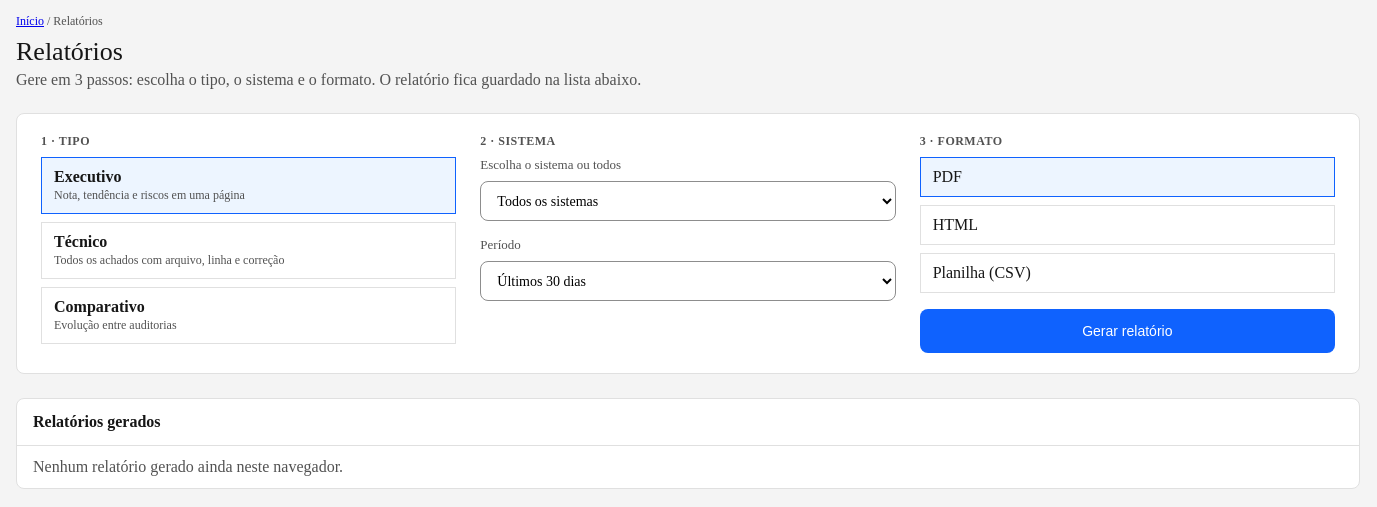
Scenario: ReportsPage › gera o consolidado de todos os sistemas e registra na lista com destaque "agora"
Check: the text "Nenhum relatório gerado ainda neste navegador." is shown, box [33, 458, 343, 475]
Click the button "Gerar relatório". click: (1127, 331)
box: [920, 309, 1335, 353]
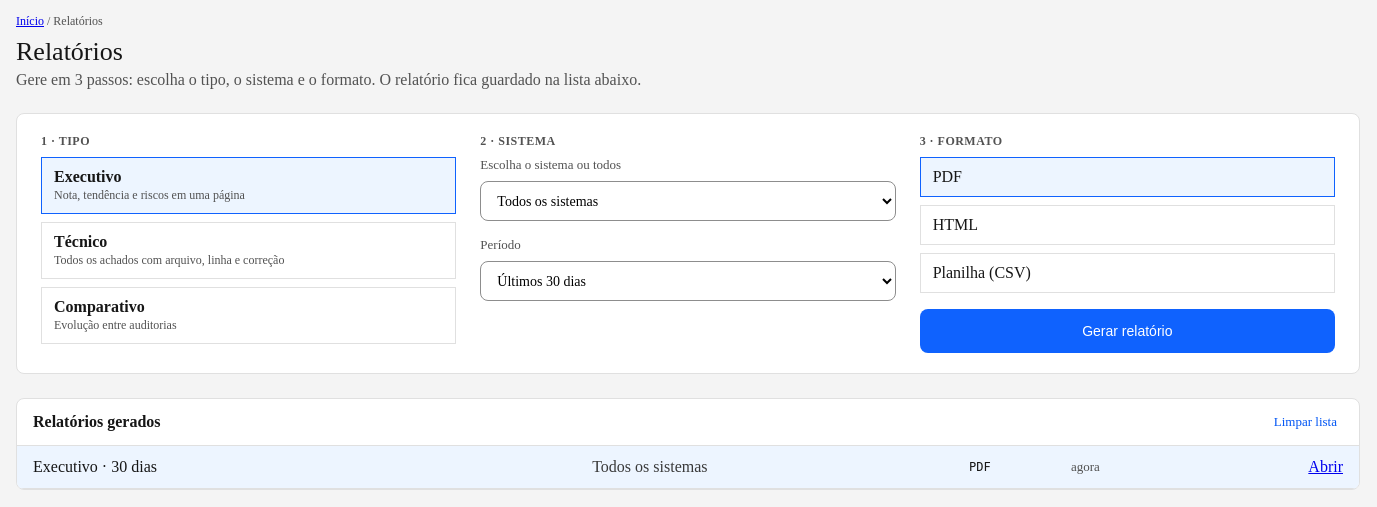
Check: the text "Executivo · 30 dias" is shown, box [33, 458, 157, 475]
Check: the text "Todos os sistemas" is shown, box [592, 458, 708, 475]
Check: the text "agora" is shown, box [1071, 459, 1100, 474]
